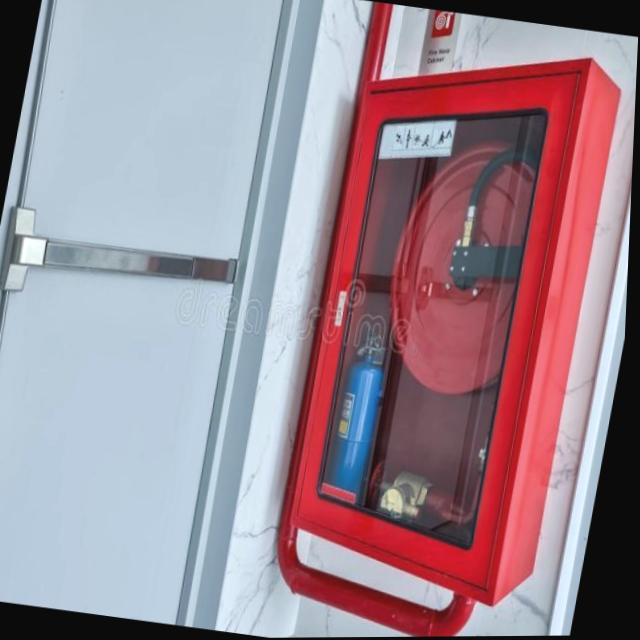FireExtinguisher: (308, 318, 408, 550)
